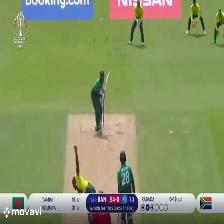batsman: (88, 68, 114, 139)
